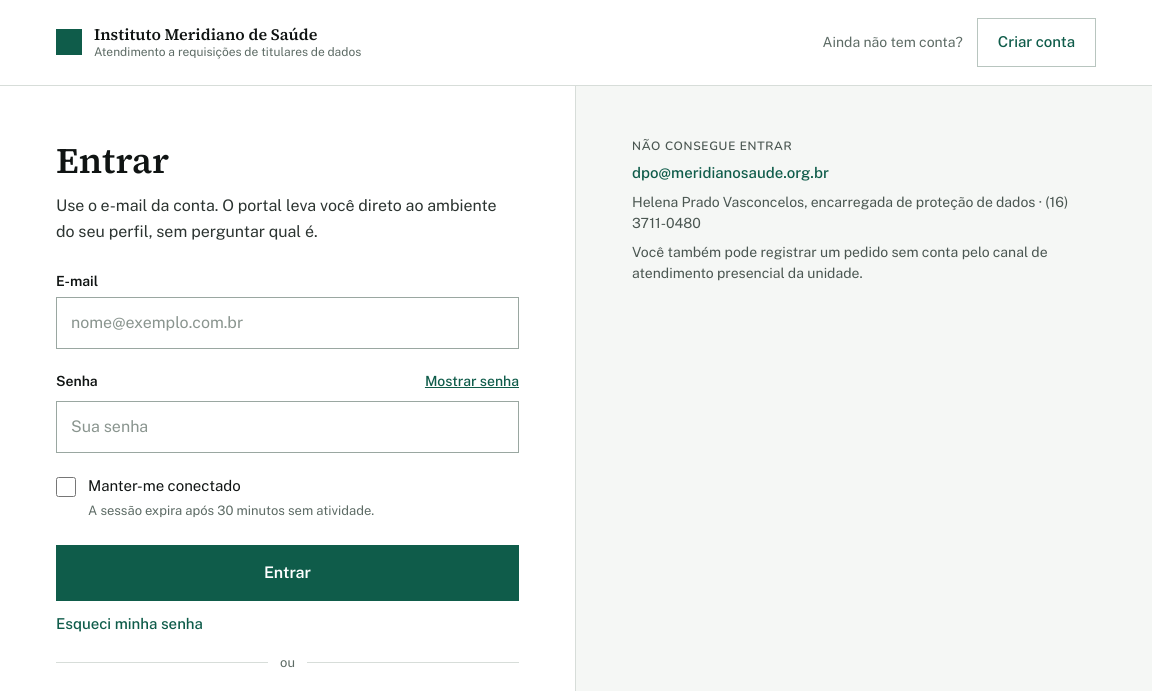
Test: Acesso à conta › leva "Esqueci minha senha" ao pedido do link de redefinição
Click the link "Esqueci minha senha": (130, 625) [56,613,203,636]
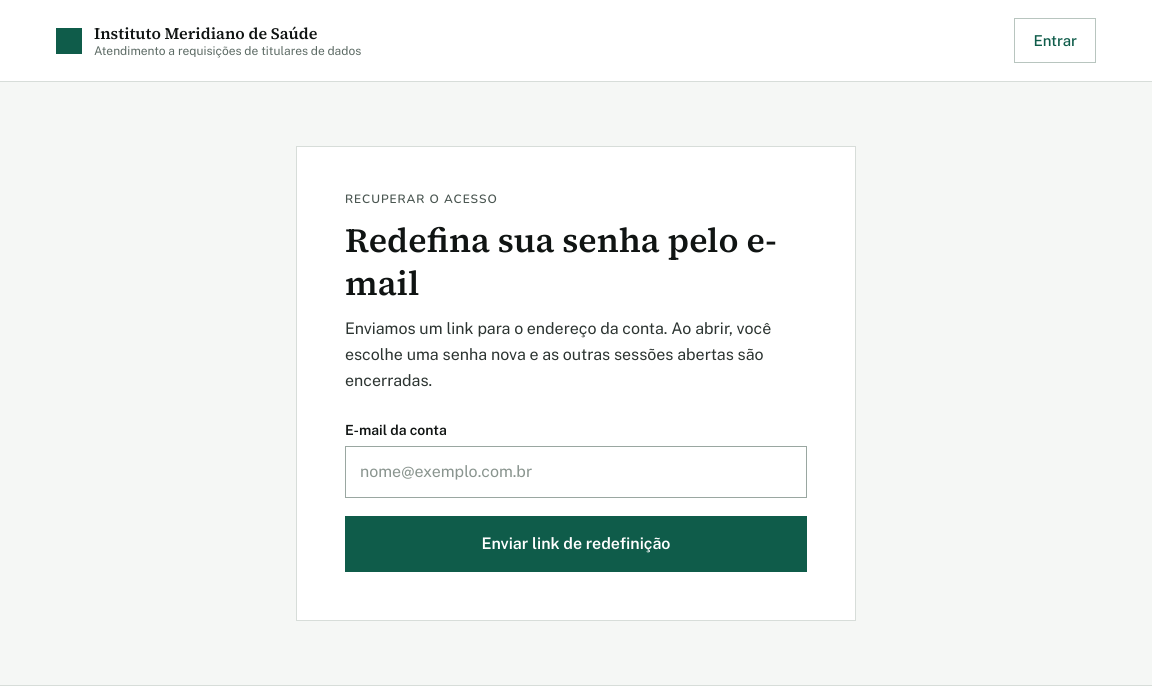
In the field labelled "E-mail da conta": (576, 472) [345,446,807,498], type "marina@exemplo.com.br"
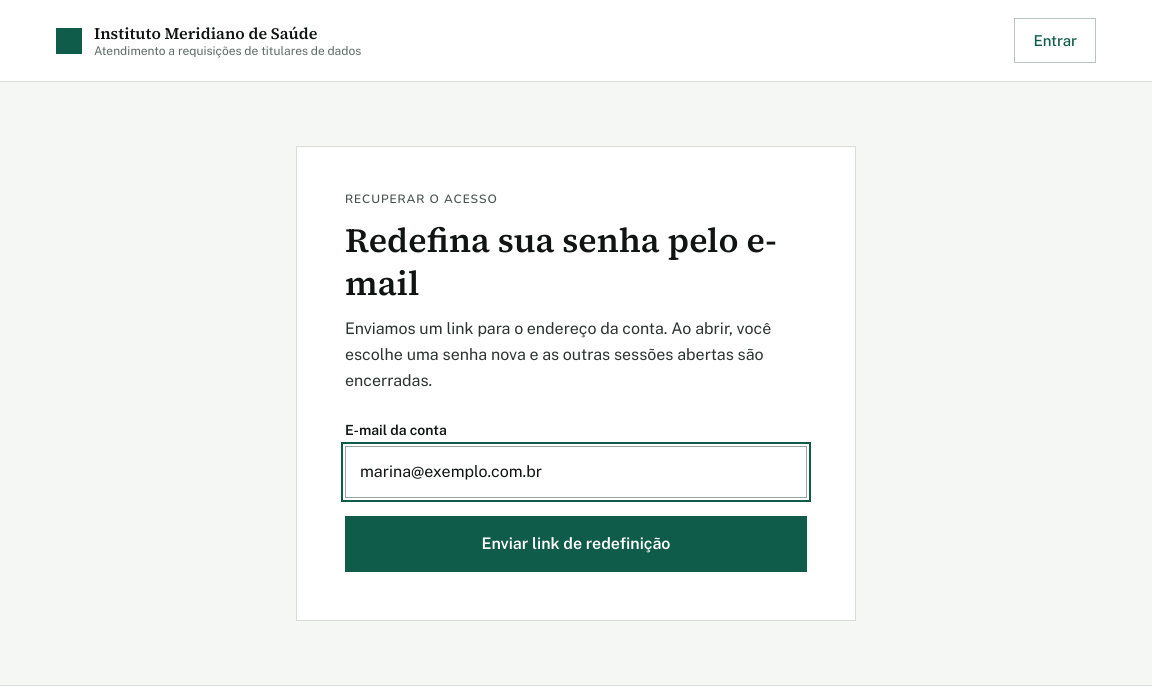
Click the button "Enviar link de redefinição": (576, 544) [345,516,807,572]
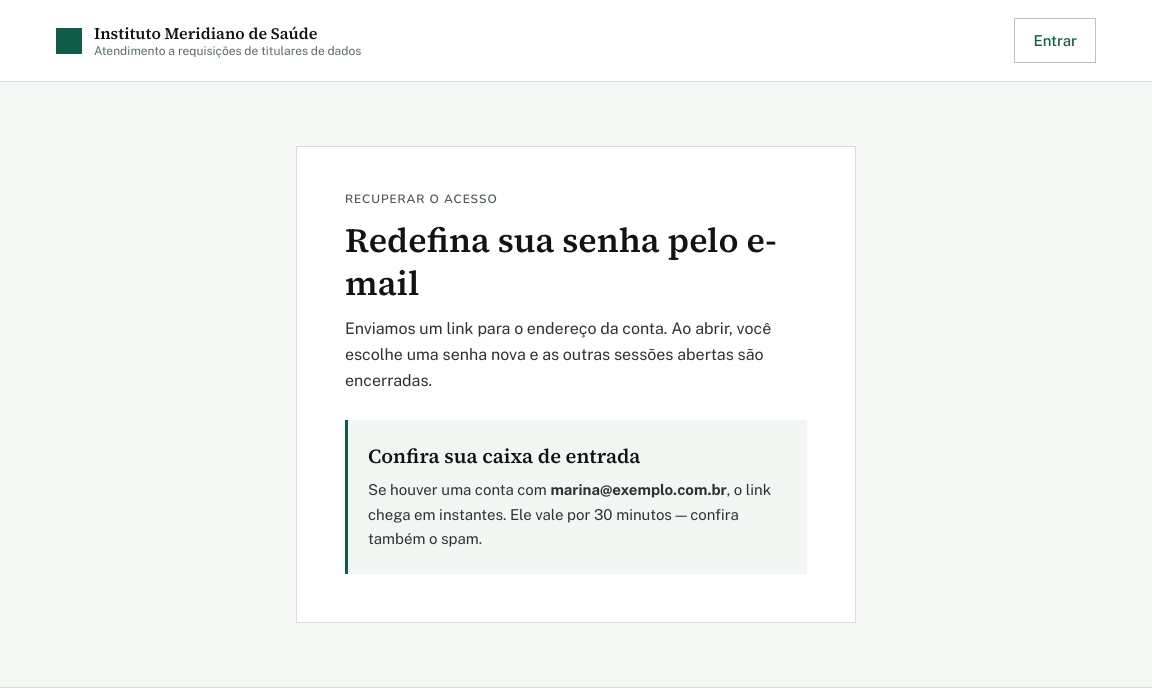
Expected: the text "Confira sua caixa de entrada" is shown, [368,442,640,470]
